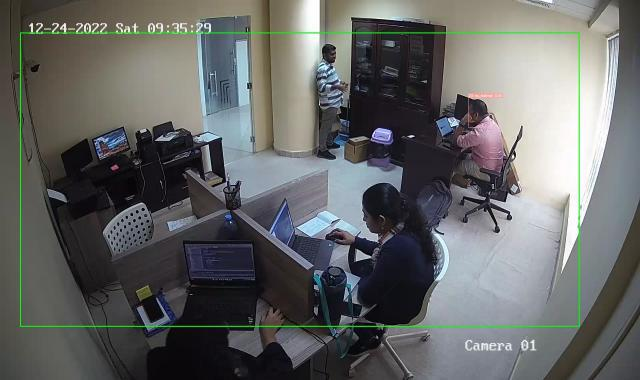no_hairnet: (172, 309, 226, 367), (362, 182, 404, 233), (468, 97, 486, 126), (322, 42, 338, 64)
